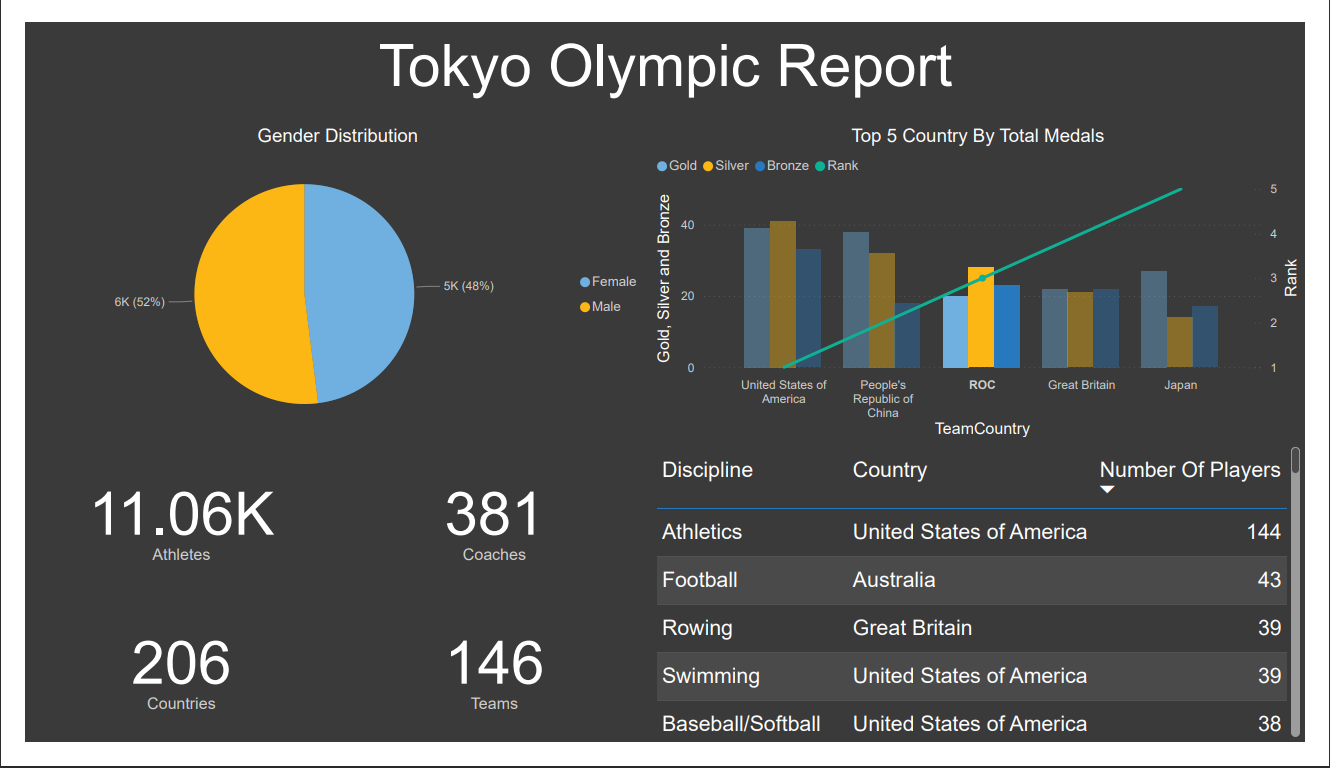

The page's visual inventory and layout, read from the dashboard file:
{"tool":"powerbi","page":{"name":"Page 1","canvas":[1280,720],"ordinal":0},"visuals":[{"type":"lineClusteredColumnComboChart","title":"Top 5 Country By Total Medals","fields":{"Category":["medals.TeamCountry"],"Y":["medals.Gold","medals.Silver","medals.Bronze"],"Y2":["medals.Rank_By_Total"]},"box":[625.7,102.9,654.5,317],"z":3000},{"type":"tableEx","fields":{"Values":["country_most_players_by_discipline.Discipline","country_most_players_by_discipline.country_has_most_player","country_most_players_by_discipline.number_of_players"]},"box":[625.7,419.9,654.5,300.5],"z":3001},{"type":"pieChart","title":"Gender Distribution","fields":{"Y":["entriesgender.Female","entriesgender.Male"]},"box":[0,102.9,625.7,317],"z":3002},{"type":"card","fields":{"Values":["athletes.PersonName"]},"box":[0,419.9,312.9,150.9],"z":3003},{"type":"card","fields":{"Values":["coaches.Name"]},"box":[312.9,419.9,312.9,150.9],"z":3004},{"type":"card","fields":{"Values":["teams.TeamName"]},"box":[312.9,569.5,312.9,150.9],"z":3005},{"type":"card","fields":{"Values":["athletes.Country"]},"box":[0,569.5,312.9,150.9],"z":3006},{"type":"textbox","box":[95.2,4.8,1090.5,81],"z":3007}]}

Visuals, with their boxes in screenshot pixels (x1, y1, x2, y2), scaled from the page's 1280x720 canvas onto the 1330x768 screenshot:
"Top 5 Country By Total Medals" lineClusteredColumnComboChart: crop(650, 110, 1329, 448)
tableEx - country_most_players_by_discipline.Discipline x country_most_players_by_discipline.country_has_most_player: crop(650, 448, 1329, 767)
"Gender Distribution" pieChart: crop(0, 110, 650, 448)
card - athletes.PersonName: crop(0, 448, 325, 609)
card - coaches.Name: crop(325, 448, 650, 609)
card - teams.TeamName: crop(325, 607, 650, 767)
card - athletes.Country: crop(0, 607, 325, 767)
textbox: crop(99, 5, 1232, 92)
